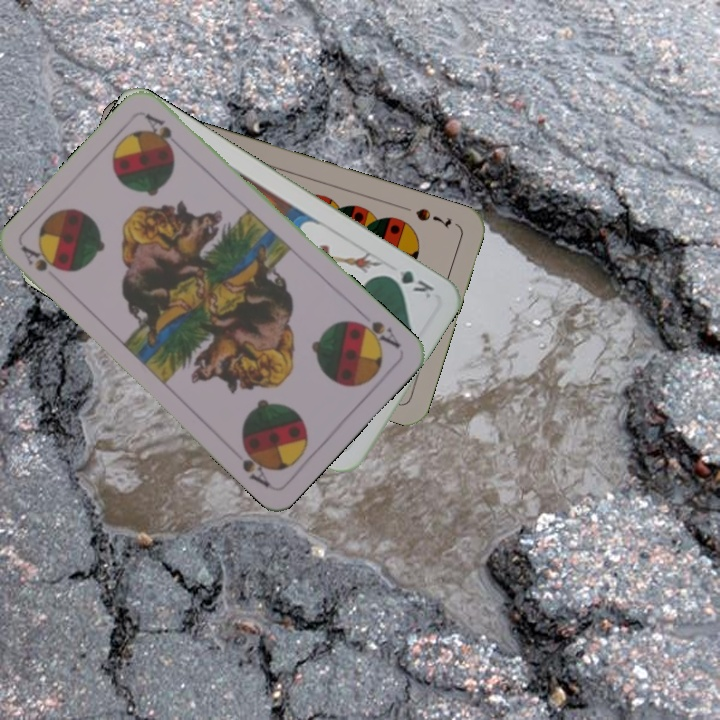GK: (381, 266, 436, 301)
S7: (411, 204, 455, 231)
SA: (349, 307, 403, 351), (17, 242, 61, 275)
